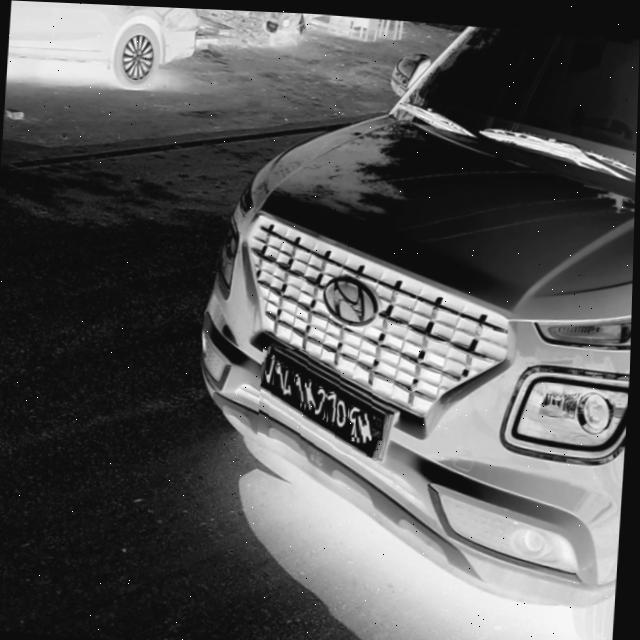0: (337, 395, 351, 425)
1: (295, 373, 307, 400), (277, 362, 287, 389), (267, 355, 277, 381)
4: (285, 365, 296, 393)
7: (328, 390, 340, 419)
C: (314, 384, 327, 412)
IND: (370, 411, 386, 436)
Indian_registered: (262, 344, 390, 454)
K: (304, 377, 319, 409)
M: (357, 407, 375, 440)
P: (350, 401, 363, 434)
